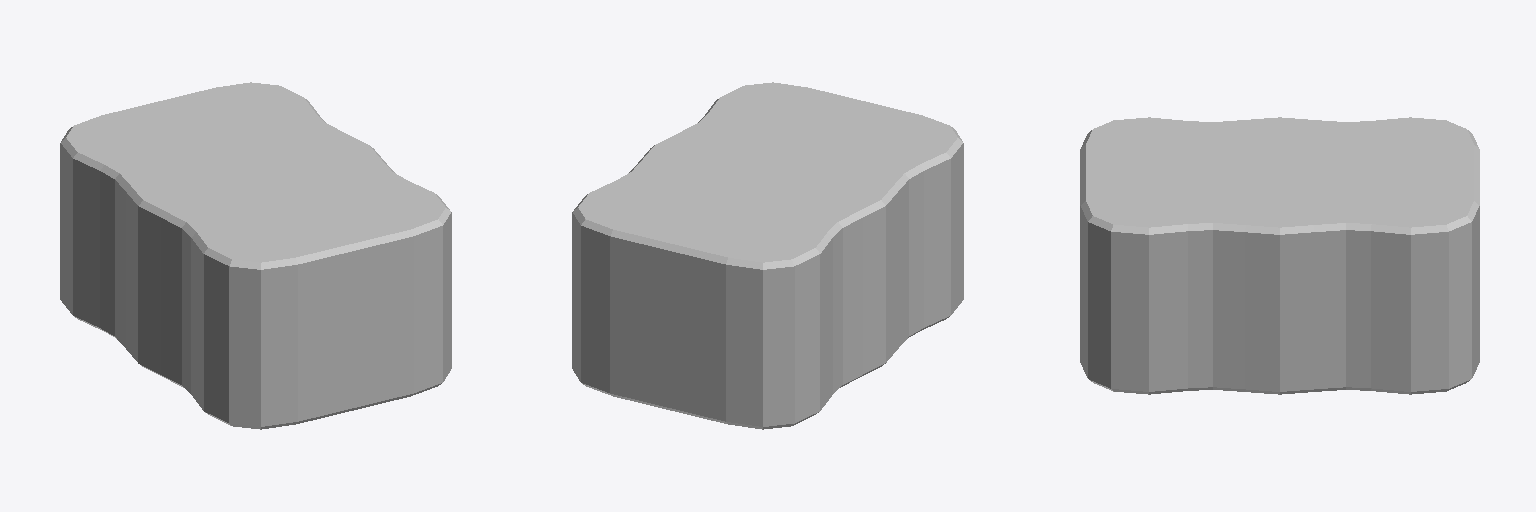
The model's file is Rollos.obj.
The picture shows the model from 3 angles: view 1: azimuth 30°, elevation 25°; view 2: azimuth 150°, elevation 25°; view 3: azimuth 270°, elevation 25°; orthographic projection.
Parts seen in each view (by area): view 1: hypercasual_prop007; view 2: hypercasual_prop007; view 3: hypercasual_prop007.
Boxes of the visible parts, x1,y1,x2,y2 form: hypercasual_prop007: [60, 82, 451, 429]; hypercasual_prop007: [572, 82, 963, 429]; hypercasual_prop007: [1080, 117, 1479, 394].
Size of the model in its own units: 1.41 by 0.9531 by 2.07.